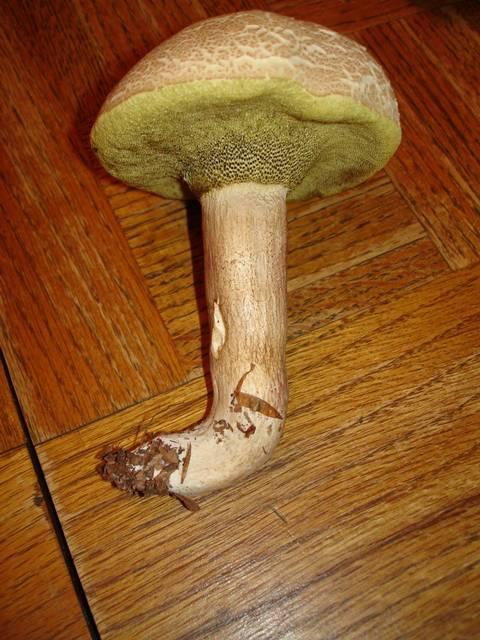edible_mushroom: (87, 8, 402, 511)
